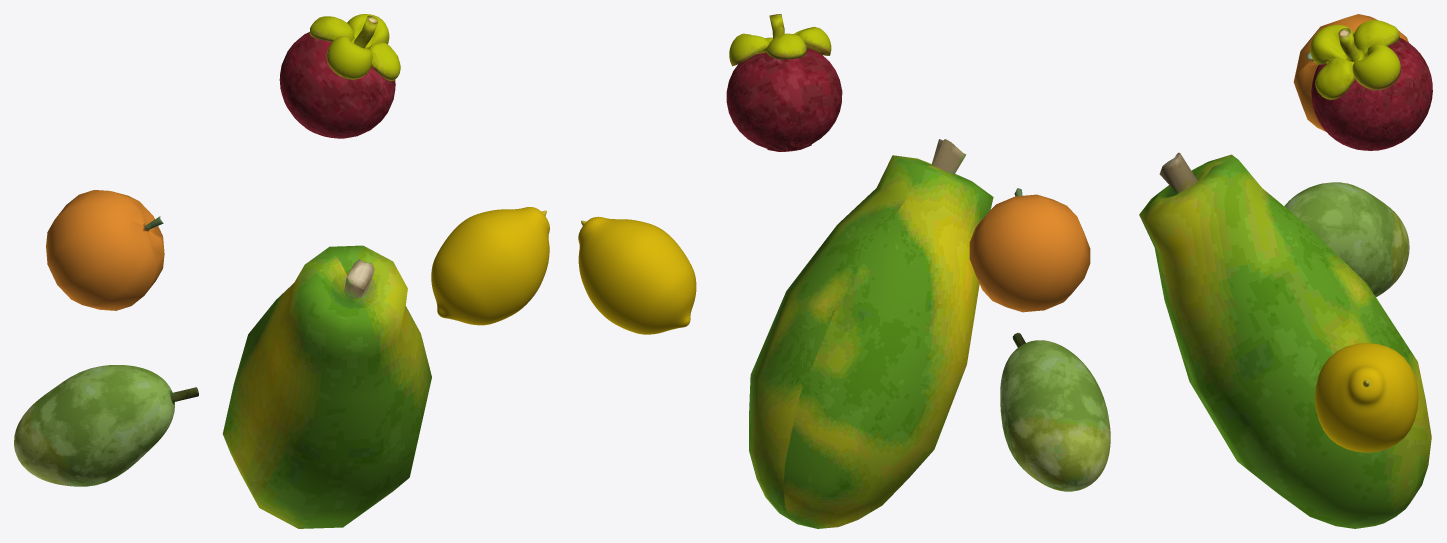
Rendered from fruits.glb.
3 views of the same model, side by side, from view 1: azimuth 30°, elevation 25°; view 2: azimuth 150°, elevation 25°; view 3: azimuth 270°, elevation 25° (orthographic). The views are drawn at different scales.
Visible parts, largest first — view 1: papaya, Cube.005, mangosten.001, orange.001, Cube.012; view 2: papaya, Cube.005, mangosten.001, orange.001, Cube.012; view 3: papaya, mangosten.001, Cube.012, Cube.005, orange.001.
Boxes of the visible parts, bbox=[...] form: papaya: bbox=[222, 245, 431, 528]; Cube.005: bbox=[14, 365, 198, 486]; mangosten.001: bbox=[279, 14, 400, 138]; orange.001: bbox=[46, 190, 164, 310]; Cube.012: bbox=[431, 207, 549, 325]; papaya: bbox=[749, 139, 993, 528]; Cube.005: bbox=[1000, 333, 1110, 491]; mangosten.001: bbox=[726, 14, 842, 151]; orange.001: bbox=[969, 188, 1090, 312]; Cube.012: bbox=[578, 216, 696, 334]; papaya: bbox=[1139, 152, 1431, 528]; mangosten.001: bbox=[1310, 20, 1432, 150]; Cube.012: bbox=[1315, 343, 1418, 452]; Cube.005: bbox=[1284, 182, 1409, 296]; orange.001: bbox=[1293, 14, 1408, 131].
Bounding box in the file's own units: 3.84 × 3.46 × 1.77.
Materials: 6 (6 with a texture image).
